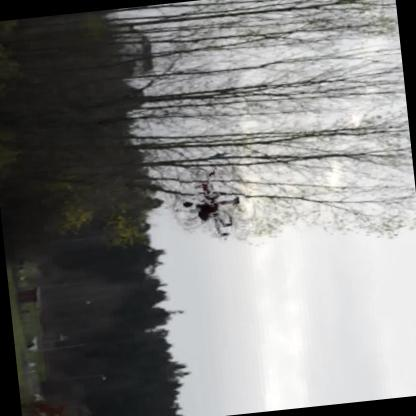drone: (178, 167, 249, 243)
